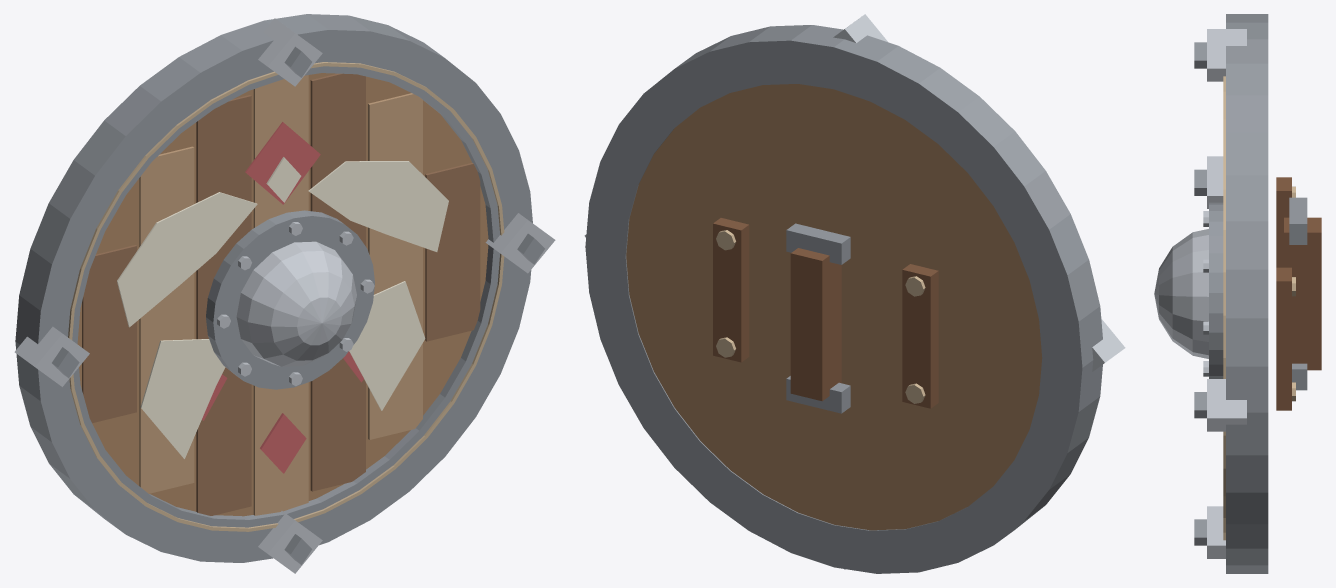
File: nexgame_round_shield_poor.glb
3 views of the same model, side by side, from view 1: azimuth 30°, elevation 25°; view 2: azimuth 150°, elevation 25°; view 3: azimuth 270°, elevation 25° (orthographic). The views are drawn at different scales.
Parts seen in each view (by area): view 1: iron, darkWood, paleWood, bone, steel, wood, trim, red; view 2: wood, iron, leather, steel, trim; view 3: iron, steel, leather, trim.
Part boxes in pixels (box(x1,y1,x2,y2)): iron: box(15, 14, 544, 564); darkWood: box(82, 73, 480, 515); paleWood: box(139, 75, 422, 515); bone: box(117, 157, 448, 458); steel: box(14, 18, 555, 573); wood: box(77, 73, 488, 516); trim: box(68, 62, 504, 531); red: box(202, 122, 363, 473); wood: box(626, 84, 1042, 530); iron: box(585, 25, 1102, 573); leather: box(713, 218, 938, 408); steel: box(584, 14, 1125, 569); trim: box(716, 230, 925, 403); iron: box(1194, 14, 1307, 573); steel: box(1154, 29, 1246, 558); leather: box(1276, 177, 1321, 410); trim: box(1223, 76, 1295, 540).
Bounding box in the file's own units: 1.32 × 1.31 × 0.3755.
